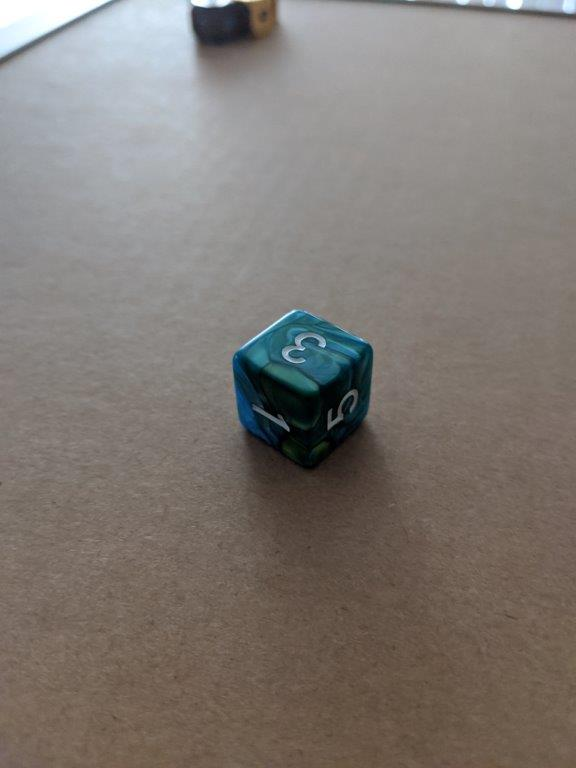d6-3: (230, 308, 374, 468)
